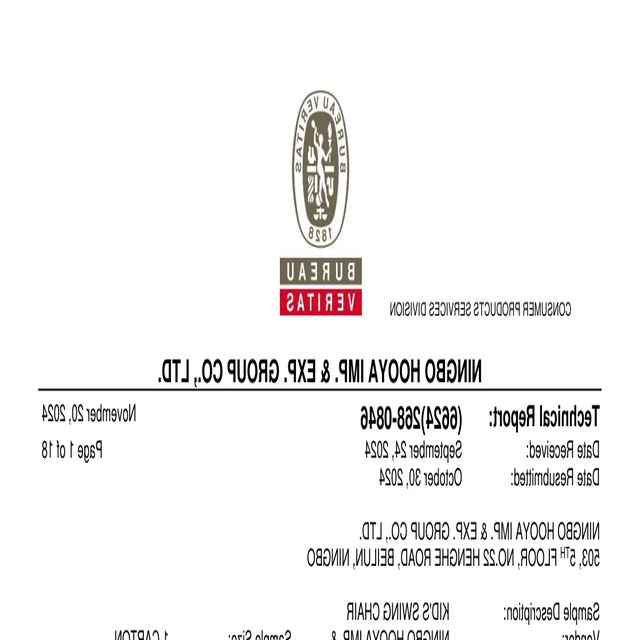bureau_veritas: (279, 91, 364, 317)
